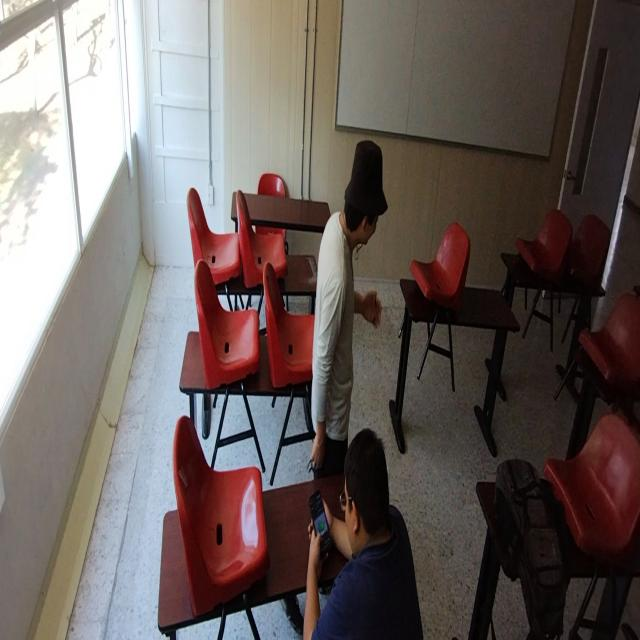adult: (302, 427, 423, 640), (310, 139, 385, 479)
